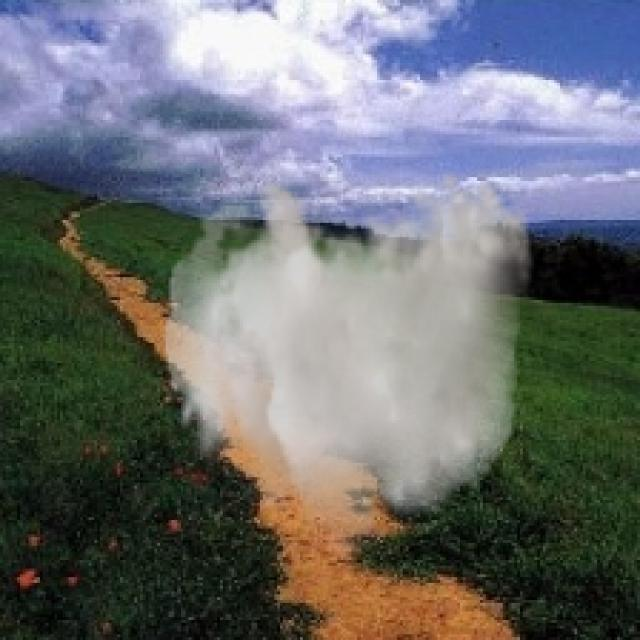Smoke: (162, 166, 534, 568)
